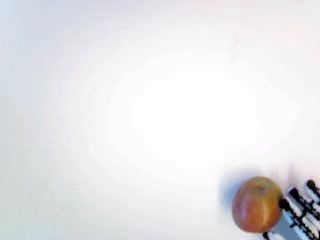apple: (231, 175, 281, 233)
